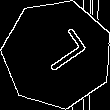L_SW: (27, 27, 87, 81)
